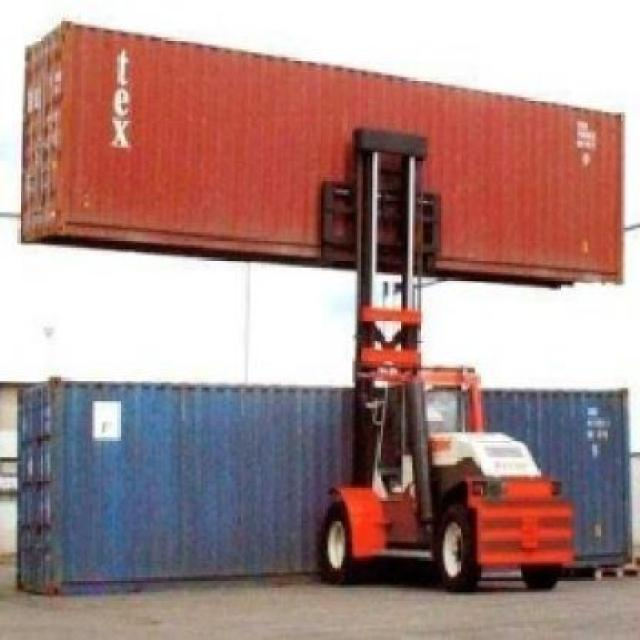forklift: (318, 125, 583, 598)
